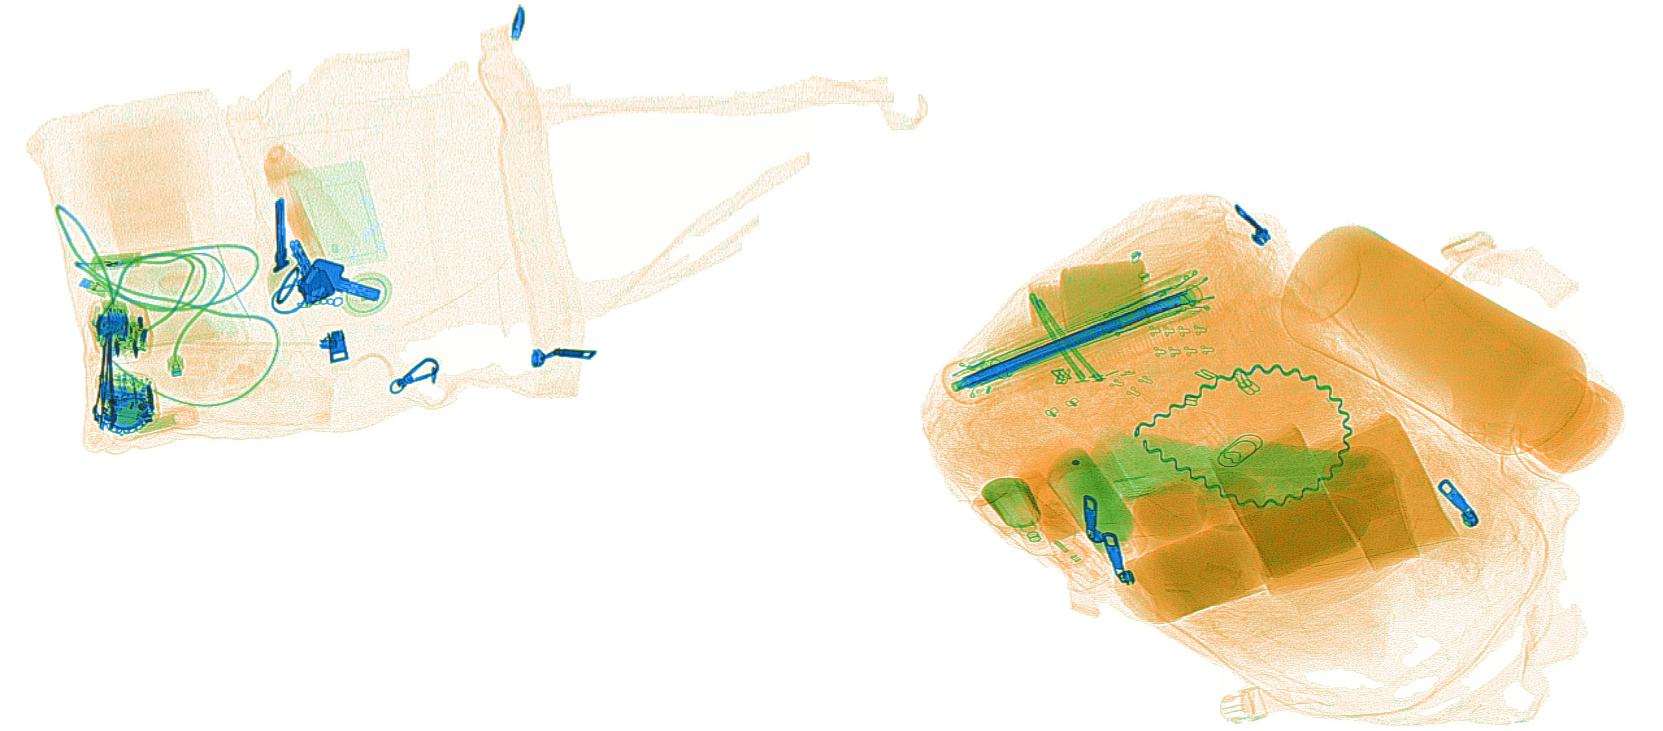plasticBottleWithaNozzle: (963, 474, 1110, 591)
